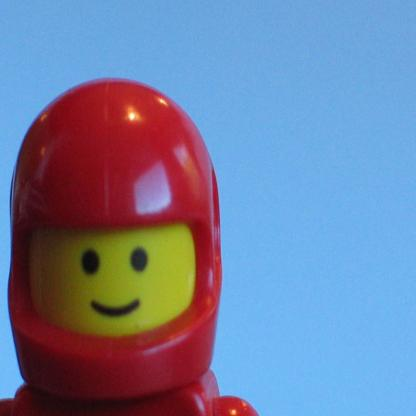Helmet: (8, 72, 225, 388)
